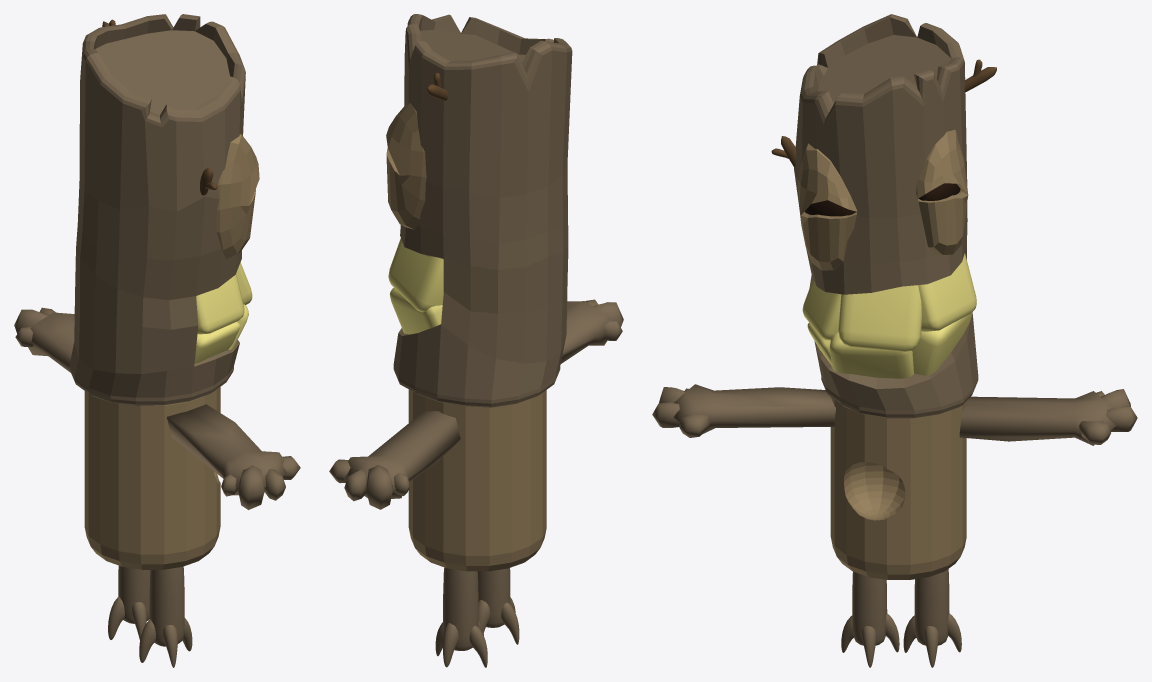
The model's file is madeirao.fbx.
3 views of the same model, side by side, from view 1: azimuth 30°, elevation 25°; view 2: azimuth 150°, elevation 25°; view 3: azimuth 270°, elevation 25° (orthographic).
Parts seen in each view (by area): view 1: Cube.010, Cylinder.001, Cube.015, Cube.001, Cube.008, Cube.020, Cube.014, Cube.016; view 2: Cube.010, Cylinder.001, Cube.014, Cube.008, Cube.003, Cube.016, Cube.015, Cube.020; view 3: Cube.010, Cylinder.001, Cube.008, Cube.014, Cube.015, Cube.001, Cube.003, Cube.016, Cube.020.
Part boxes in pixels (<box>): Cube.010: <box>69,14,245,405</box>; Cylinder.001: <box>84,387,220,569</box>; Cube.015: <box>167,404,300,509</box>; Cube.001: <box>216,134,259,259</box>; Cube.008: <box>194,262,252,363</box>; Cube.020: <box>139,566,192,667</box>; Cube.014: <box>14,307,74,372</box>; Cube.016: <box>108,565,150,640</box>; Cube.010: <box>393,14,572,407</box>; Cylinder.001: <box>408,389,546,571</box>; Cube.014: <box>329,411,460,509</box>; Cube.008: <box>388,238,443,334</box>; Cube.003: <box>386,103,426,229</box>; Cube.016: <box>435,567,487,667</box>; Cube.015: <box>560,299,623,363</box>; Cube.020: <box>477,568,519,644</box>; Cube.010: <box>771,14,996,418</box>; Cylinder.001: <box>830,397,966,579</box>; Cube.008: <box>802,253,976,378</box>; Cube.014: <box>959,389,1137,445</box>; Cube.015: <box>652,384,835,437</box>; Cube.001: <box>798,143,857,270</box>; Cube.003: <box>916,130,968,255</box>; Cube.016: <box>903,569,961,667</box>; Cube.020: <box>841,571,899,667</box>.
Size of the model in its own units: 165 by 646 by 465.
